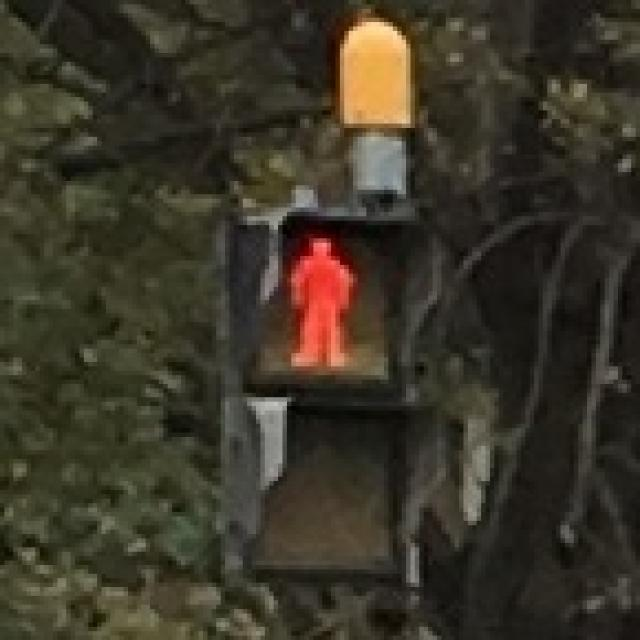red-crossing: (264, 225, 380, 384)
